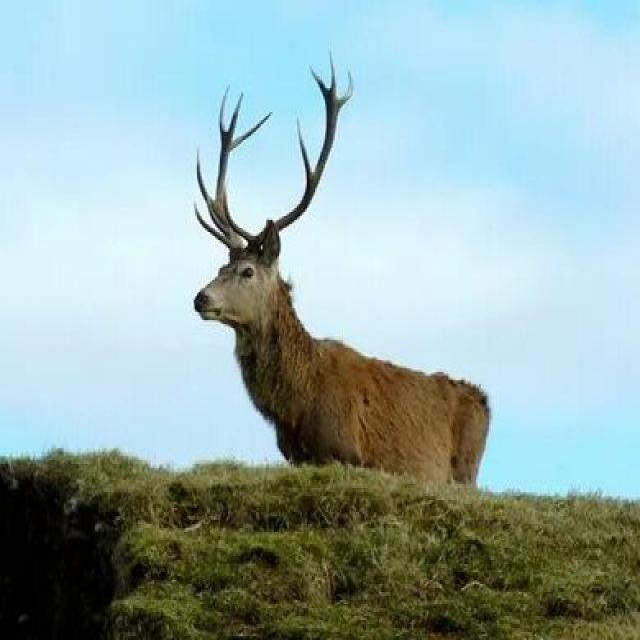deer: (162, 90, 503, 526)
